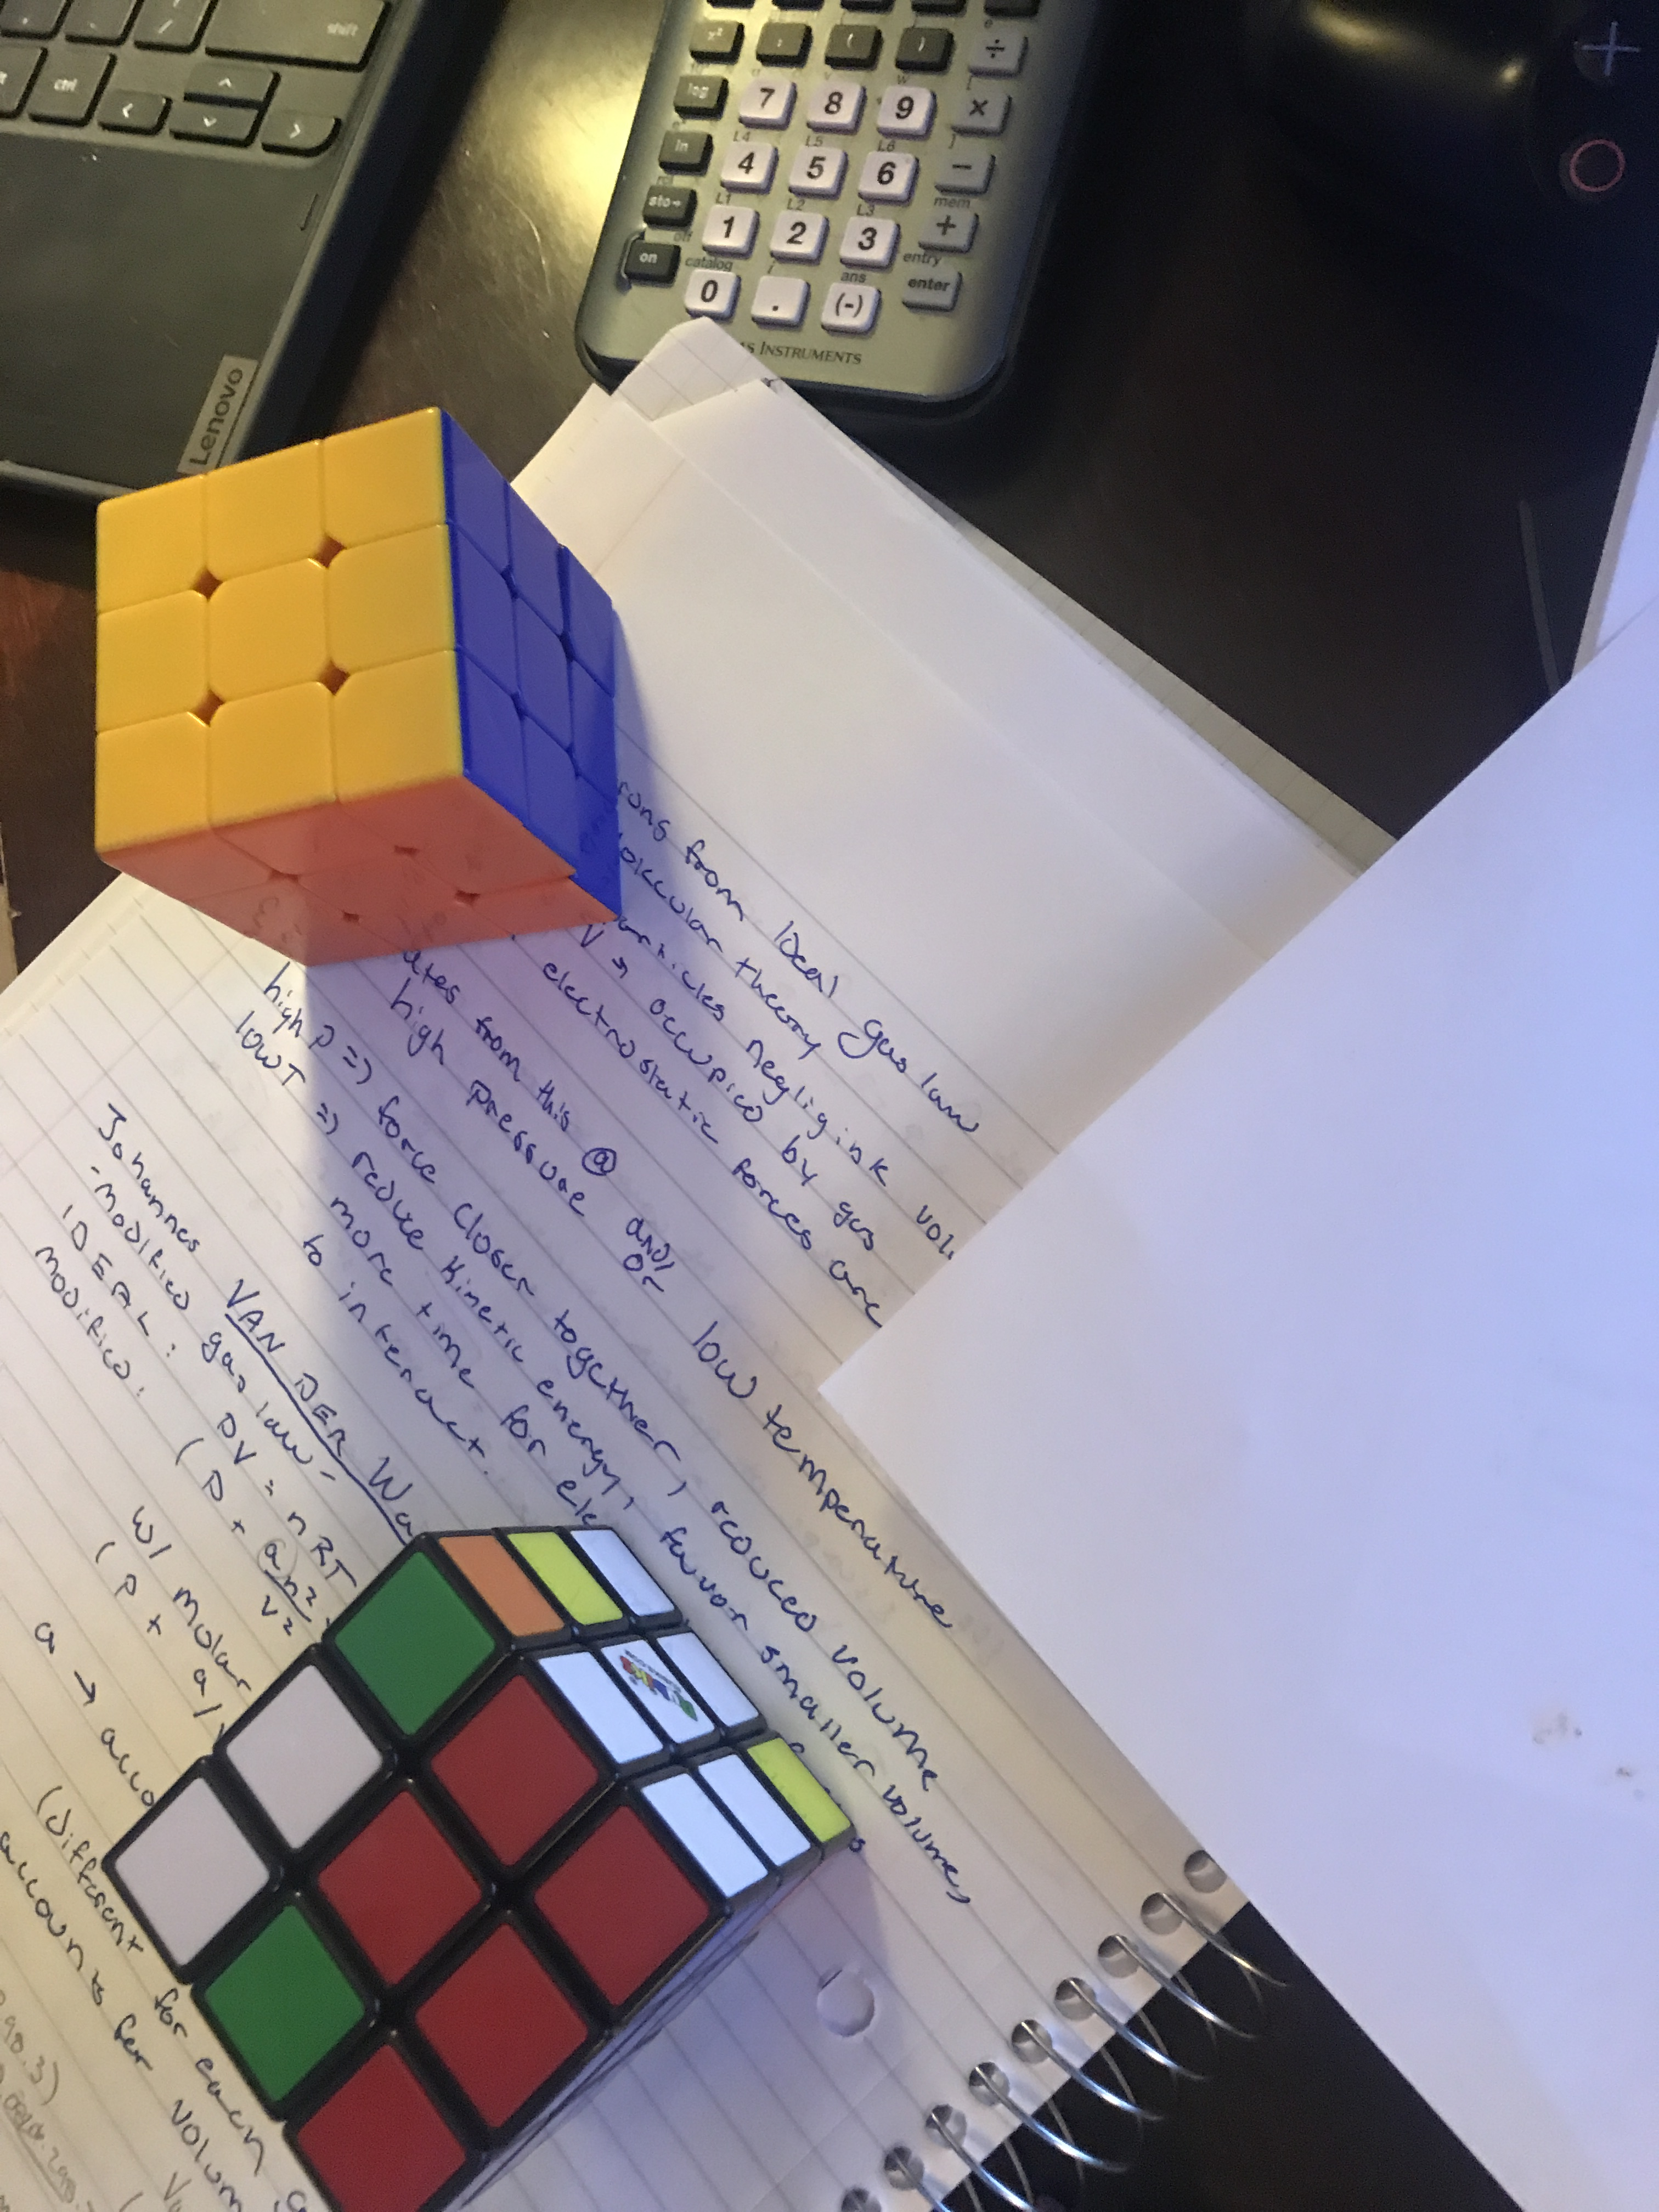rubiks: (112, 1517, 854, 2212), (85, 404, 624, 986)
